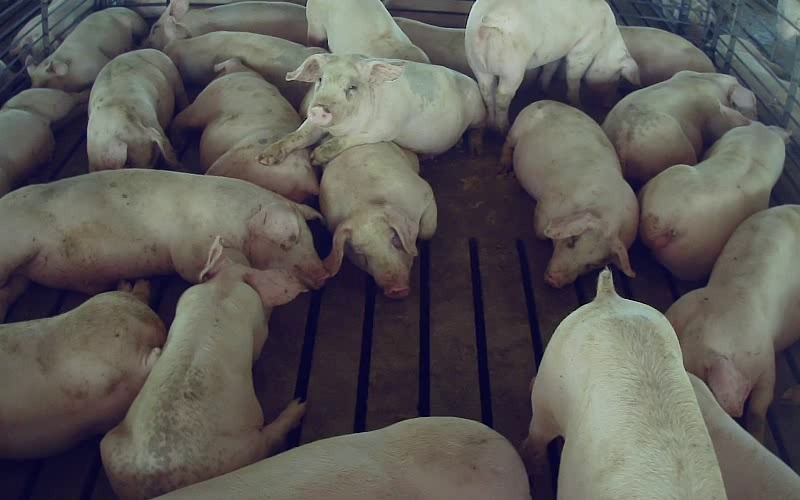pig: (101, 238, 304, 499), (527, 270, 725, 499), (666, 205, 799, 441), (155, 417, 529, 499), (0, 280, 165, 457), (501, 100, 638, 287), (640, 105, 786, 279), (260, 54, 485, 164), (465, 0, 639, 131), (172, 59, 317, 202), (320, 142, 436, 298), (602, 71, 755, 183), (163, 31, 324, 107), (87, 49, 187, 171), (28, 7, 147, 91), (0, 88, 88, 196), (147, 0, 305, 49), (306, 0, 429, 62)
